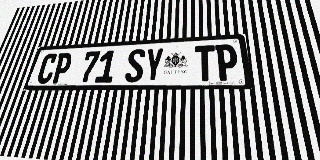1: (95, 50, 117, 83)
7: (78, 51, 101, 83)
C: (35, 53, 59, 84)
P: (215, 44, 239, 81), (50, 52, 74, 84)
S: (124, 49, 146, 82)
T: (195, 45, 216, 81)
Y: (143, 48, 164, 82)
